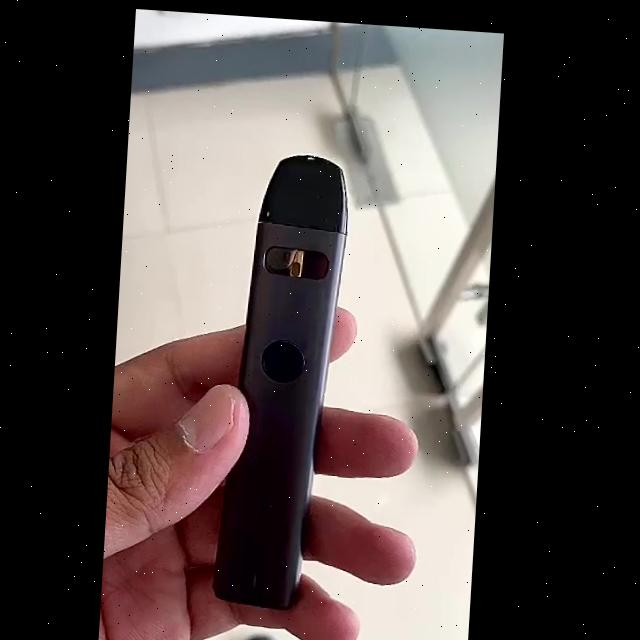vape: (218, 145, 357, 609)
